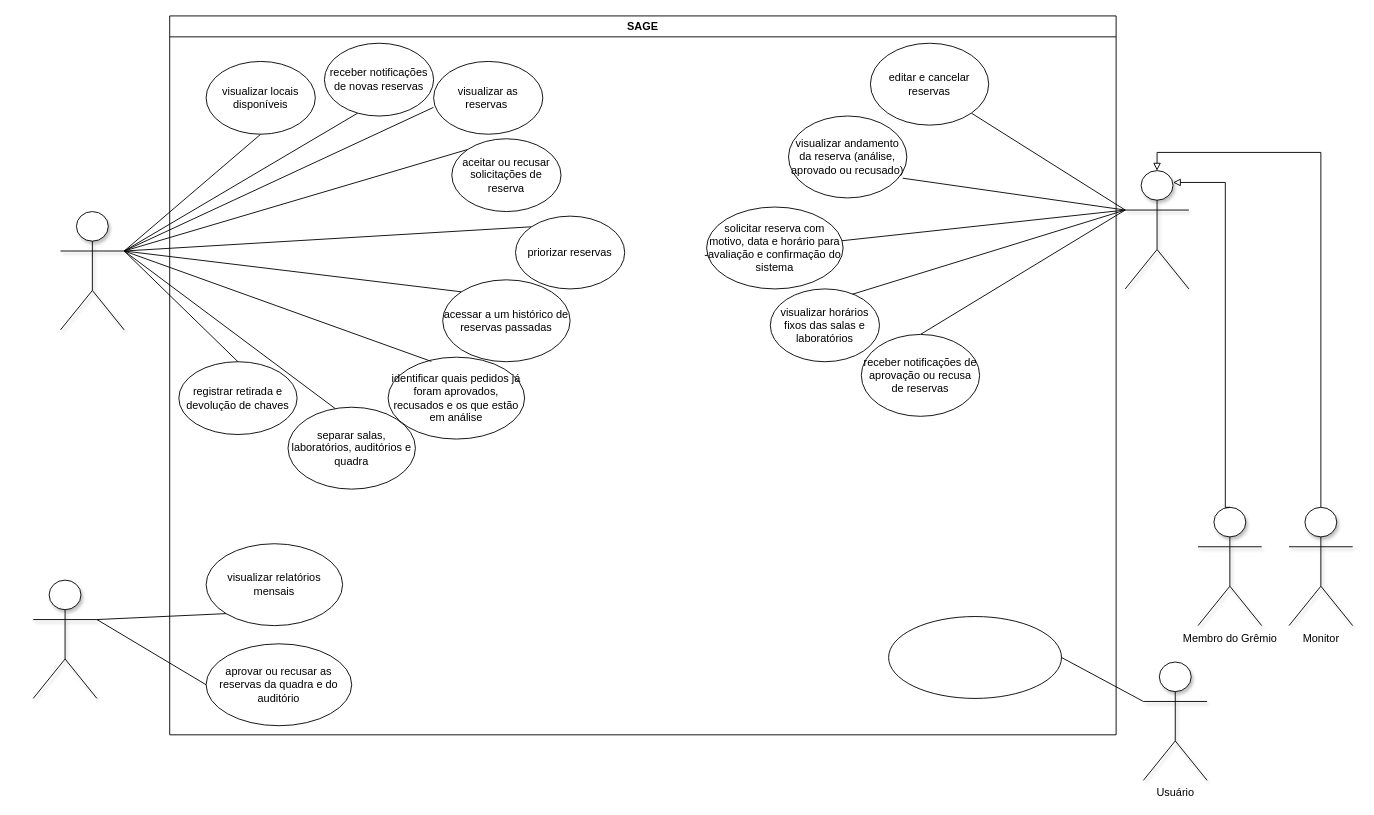
Some shapes in this 1374 by 815 pixel diagram are drawn without their labels. Each missing label, with the centre of its shape:
"Coordenador/Diretor" belongs at (x=65, y=640).
"fazer login com meu e-mail institucional e senha" belongs at (x=975, y=657).
"Funcionária do Apoio" belongs at (x=93, y=271).
"Professor" belongs at (x=1157, y=230).
